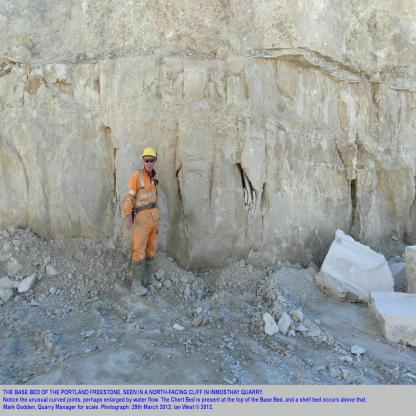person: (110, 136, 168, 304)
